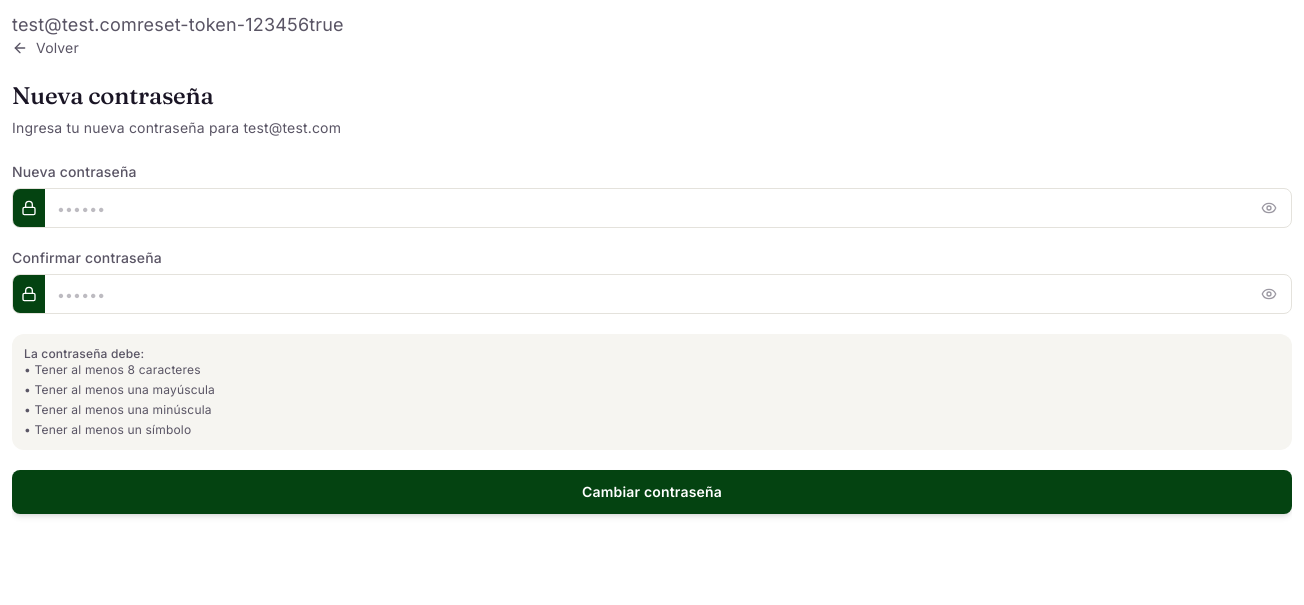
ResetPasswordPage › validates password minimum length
Step 1. Type "12345" into the password field with placeholder "••••••" → (651, 208), box [45,189,1257,227]
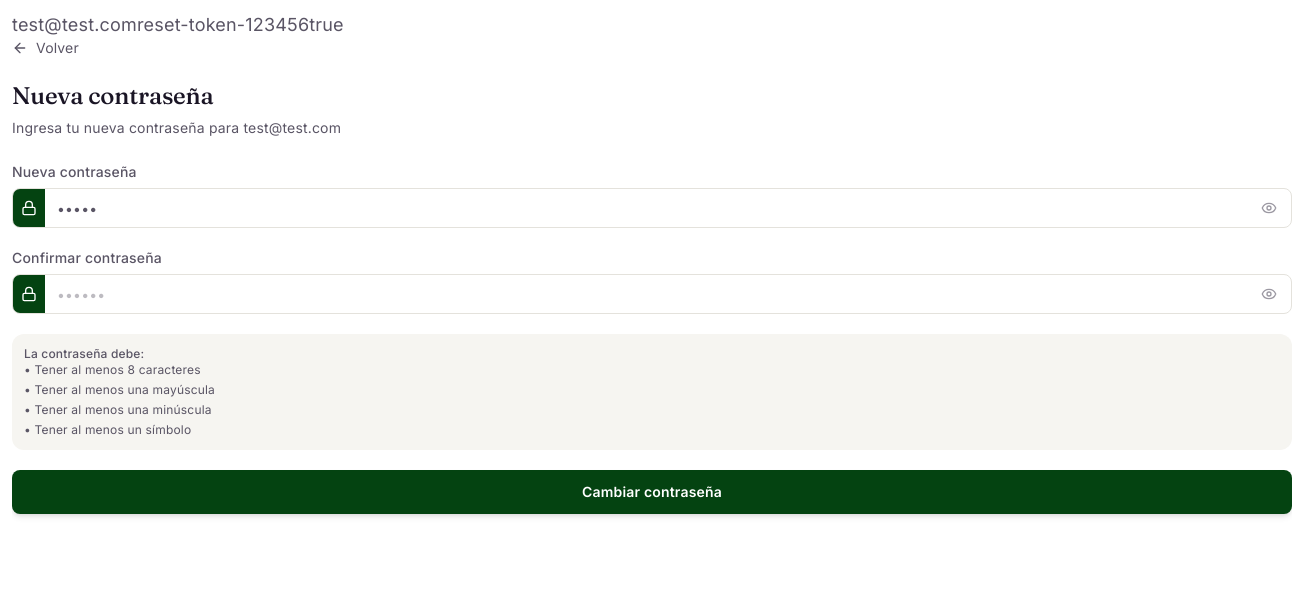
Step 2. Type "12345" into the password field with placeholder "••••••" → (651, 294), box [45,275,1257,313]
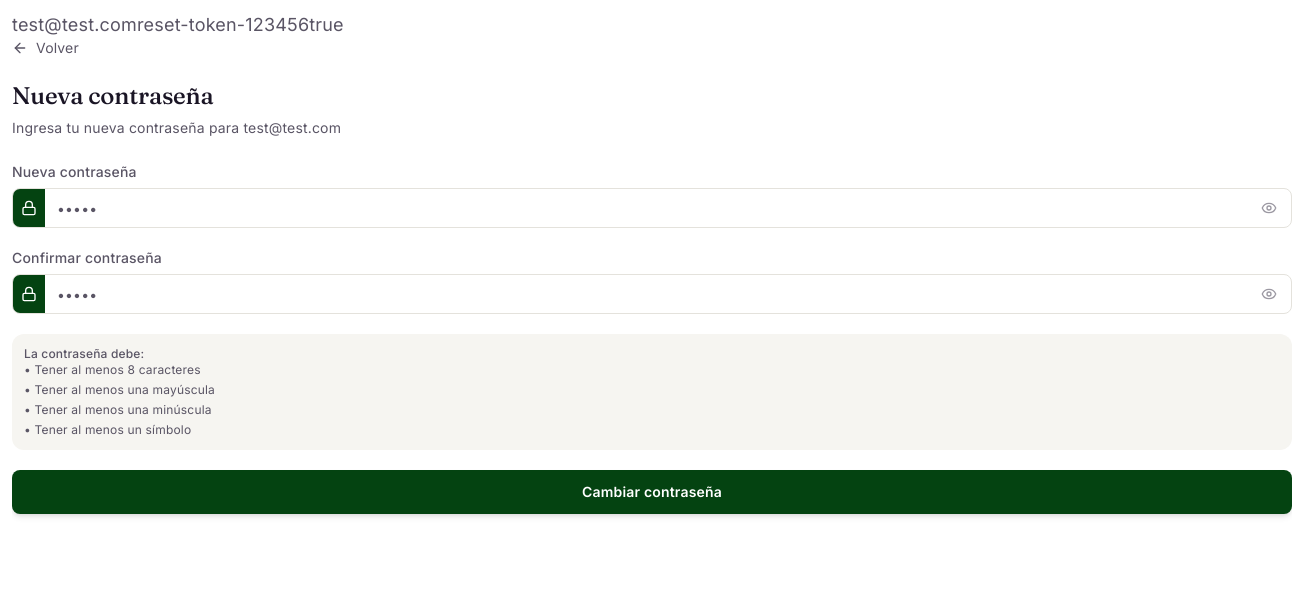
Step 3. Submit the form named "cambiar contraseña", box [12,162,1292,514]
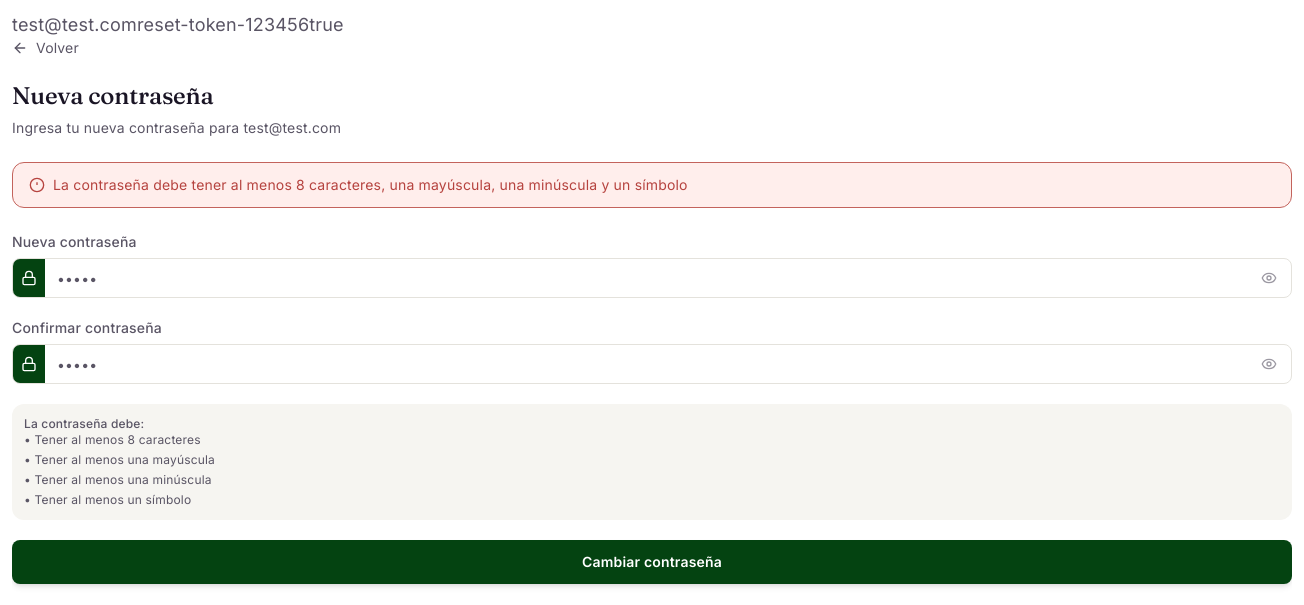
Check: the text "La contraseña debe tener al menos 8 caracteres, una mayúscula, una minúscula y un símbolo" is shown, box [53,176,688,193]
